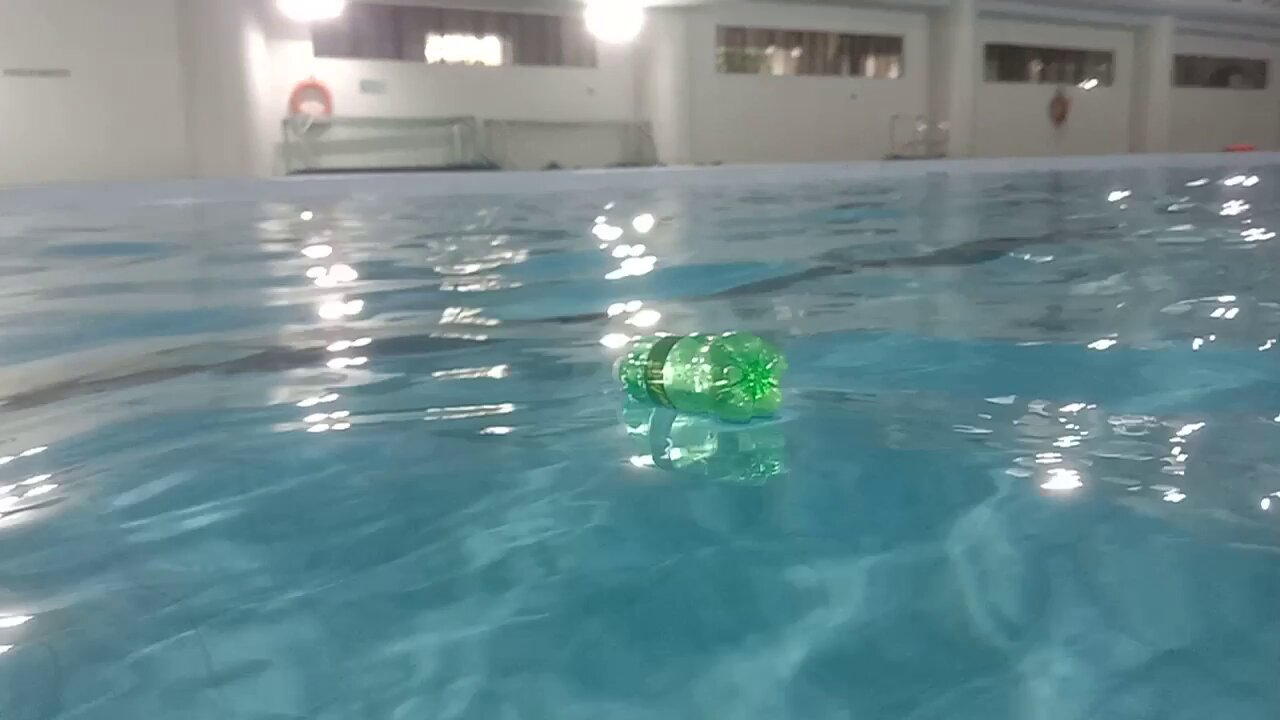plastic_bottle: (613, 332, 788, 417)
